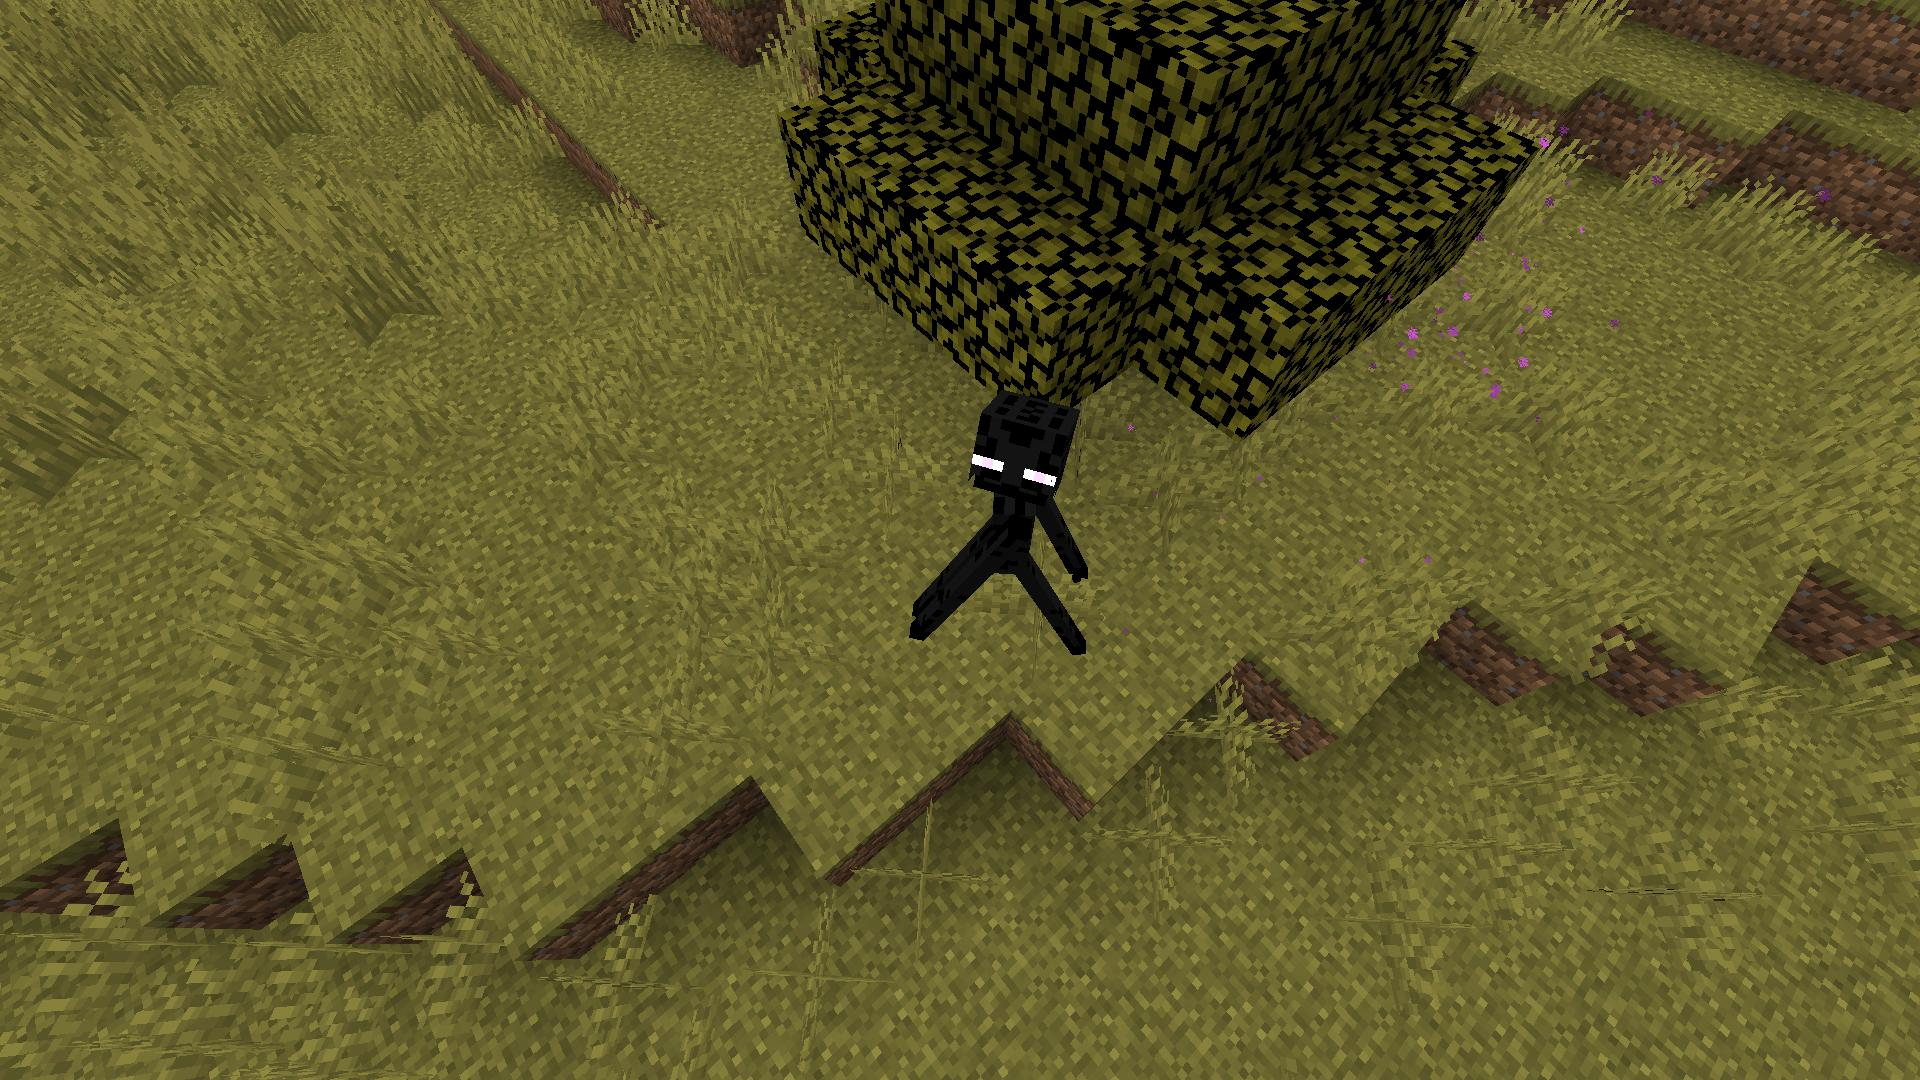enderman: (905, 376, 1108, 700)
